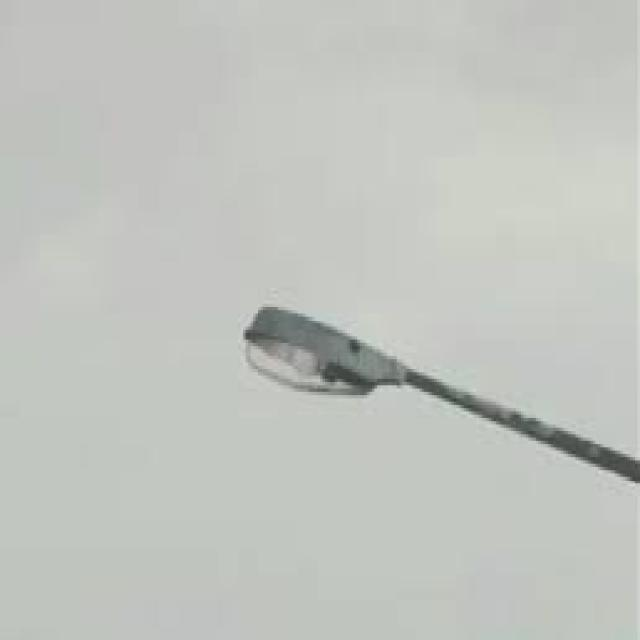Street Light: (243, 303, 640, 640)
